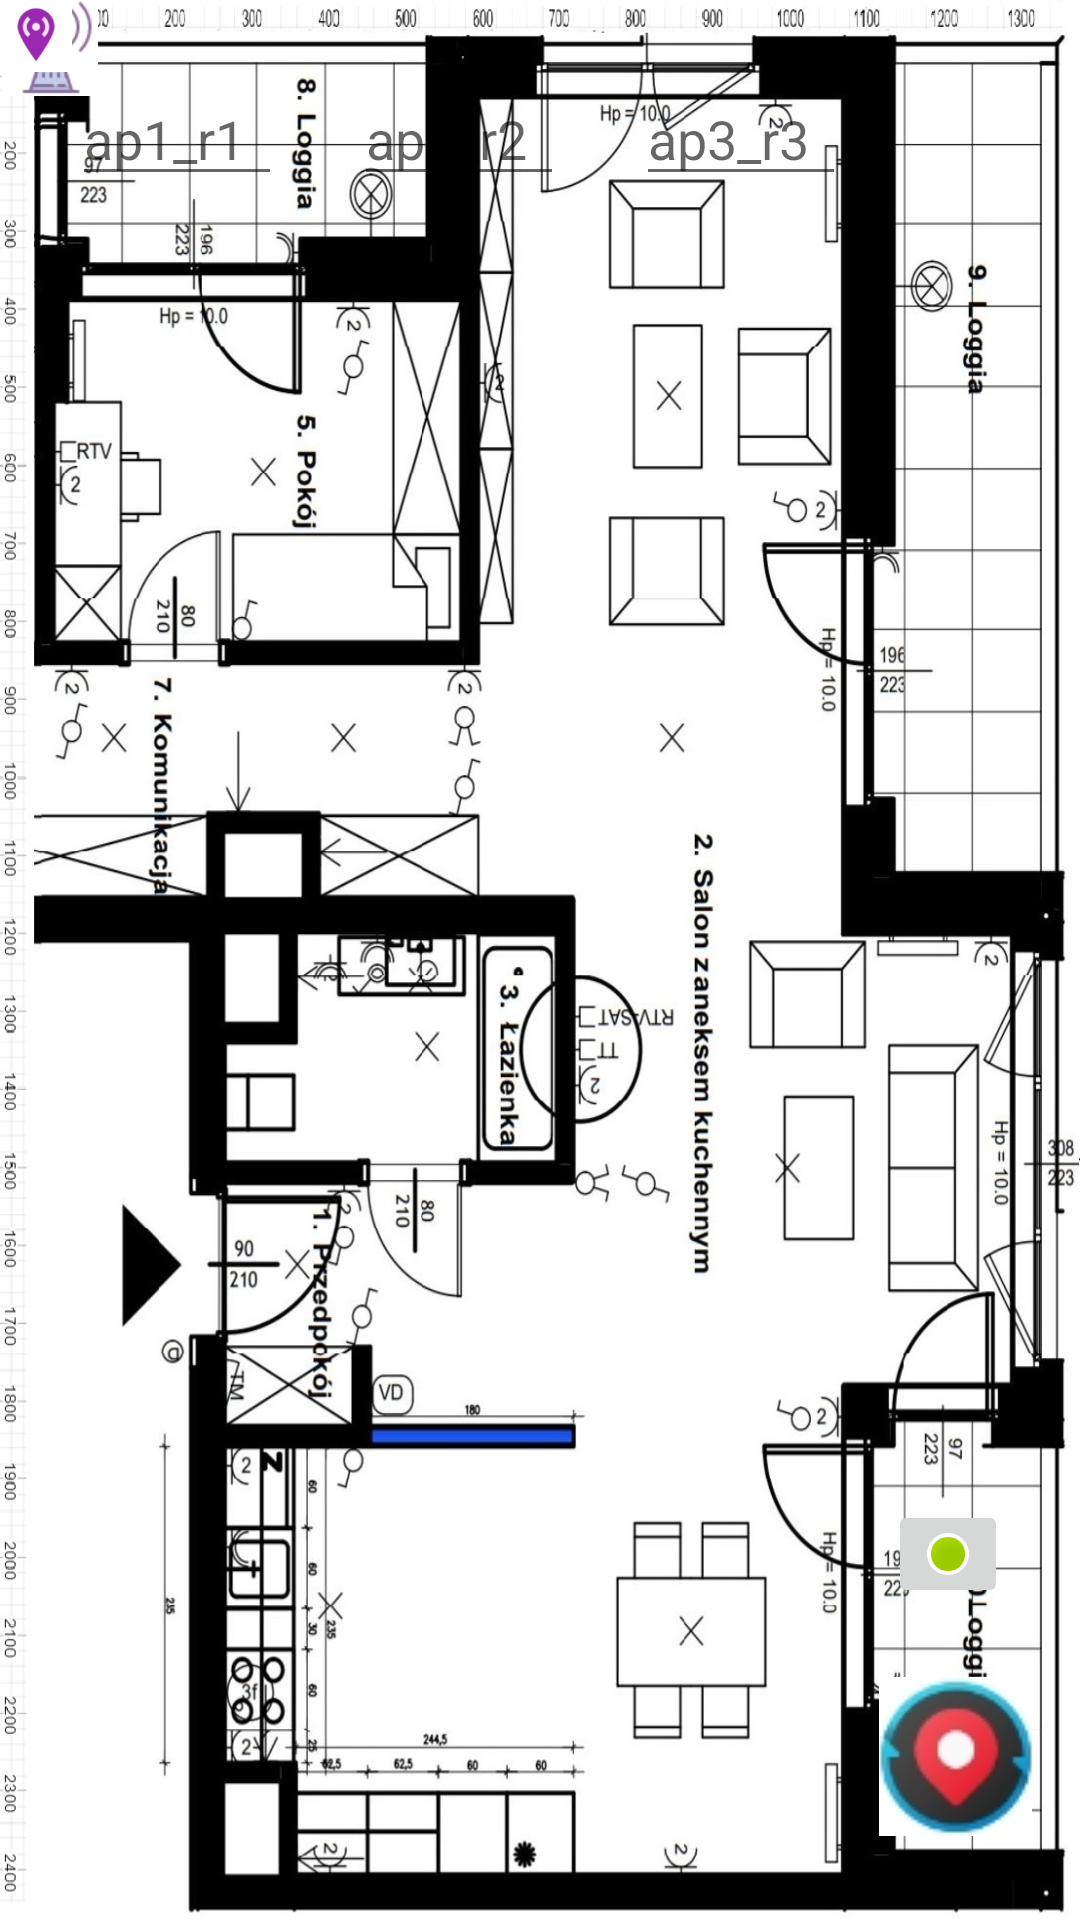

Point at icon controls on the screen. Image size 1080px x 1920px, points as point (x, y).
find location: point (955, 1757)
presence online: point (948, 1554)
